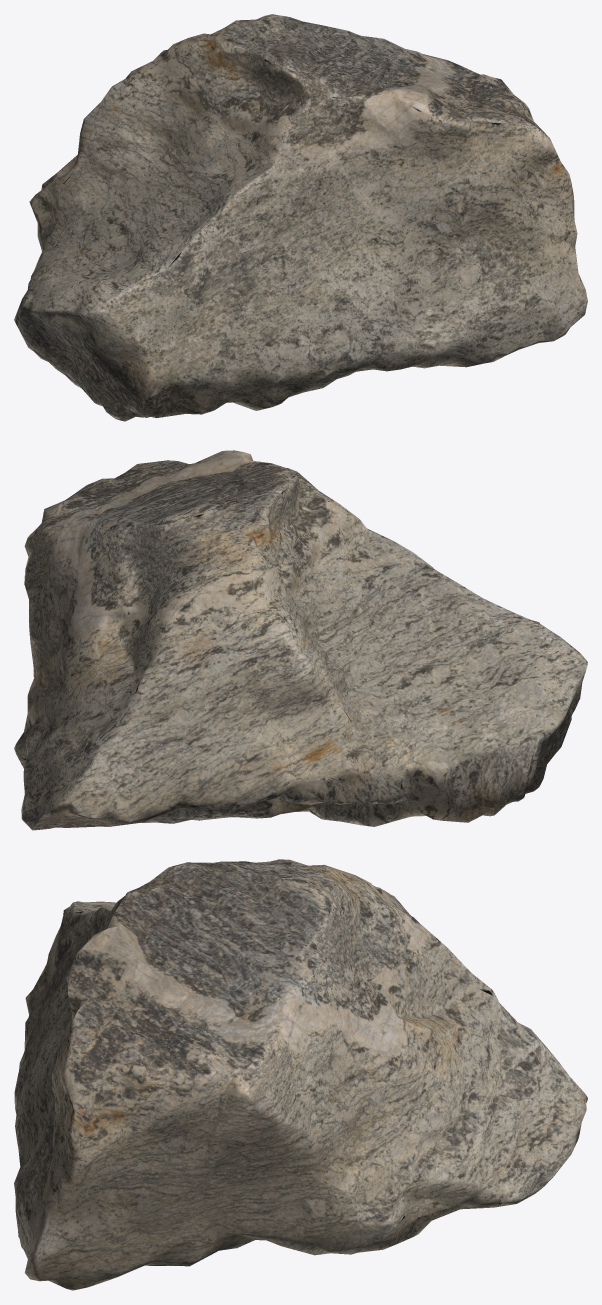
File: SM_whejeeb_tier_2.gltf
The picture shows the model from 3 angles, top to bottom: view 1: azimuth 30°, elevation 25°; view 2: azimuth 150°, elevation 25°; view 3: azimuth 270°, elevation 25°; orthographic projection. The views are drawn at different scales.
Parts seen in each view (by area): view 1: whejeeb_LOD2_TIER2_000; view 2: whejeeb_LOD2_TIER2_000; view 3: whejeeb_LOD2_TIER2_000.
Boxes of the visible parts, x1,y1,x2,y2 form: whejeeb_LOD2_TIER2_000: (14,14,587,421); whejeeb_LOD2_TIER2_000: (14,450,587,830); whejeeb_LOD2_TIER2_000: (14,859,587,1290).
Size of the model in its own units: 0.9527 by 0.5195 by 0.8492.
Materials: 1 (1 with a texture image).
